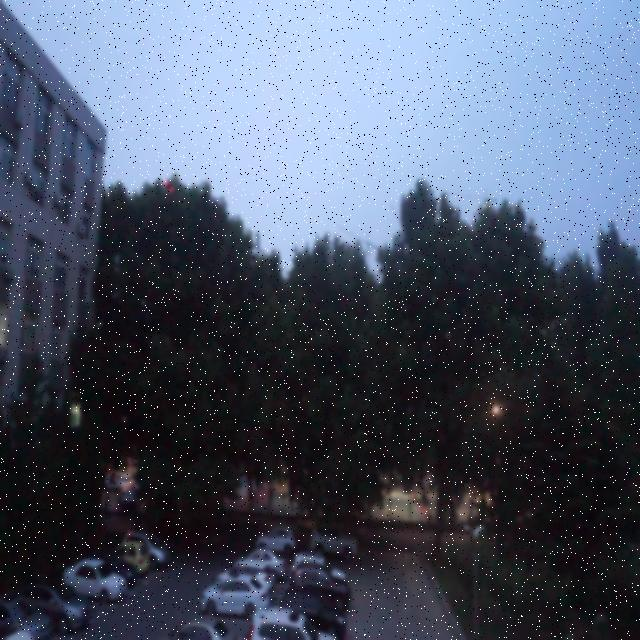UAV: (164, 181, 174, 194)
